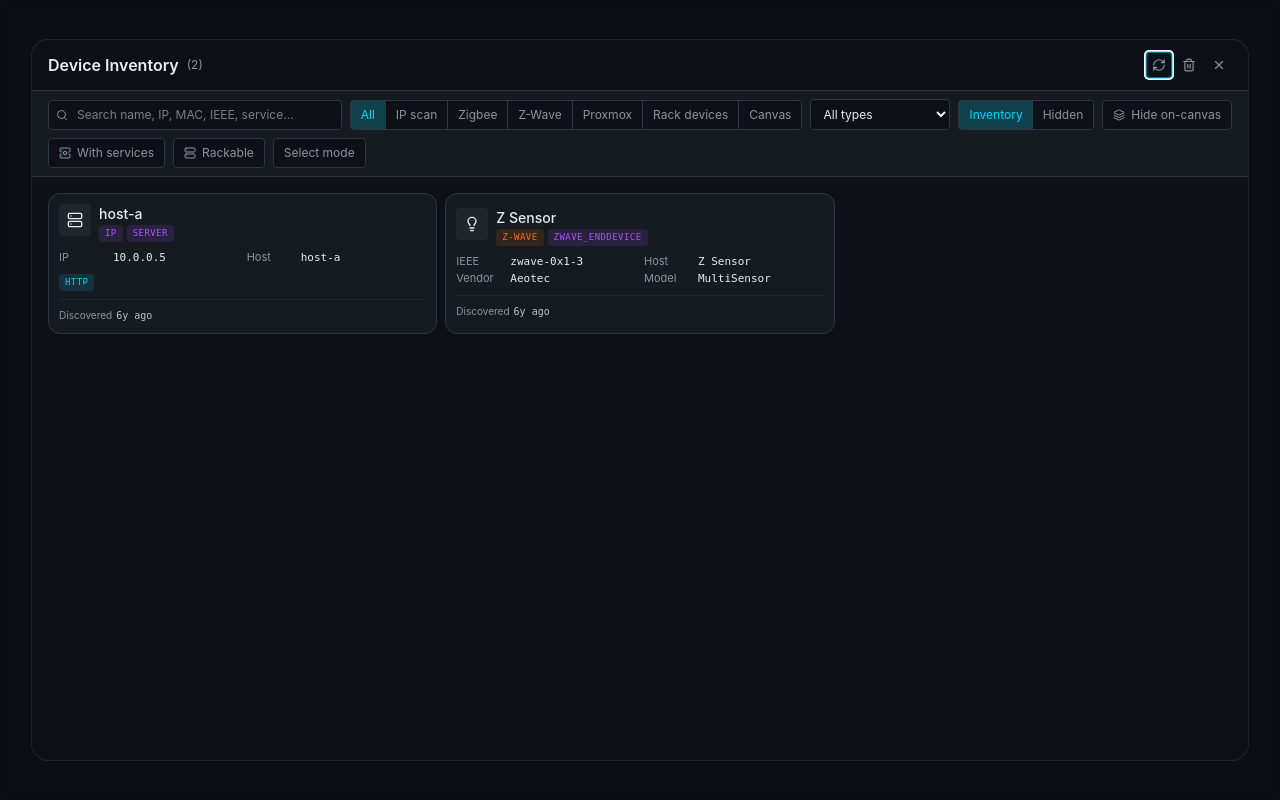
PendingDevicesModal — Device Inventory › filters to Z-Wave devices via the Z-Wave source filter
This screenshot has width=1280, height=800.
Check: the button with test id "pending-card-dev-z" is shown, box [445, 193, 835, 334]
Click the button "Z-Wave": (540, 114) [507, 100, 572, 128]
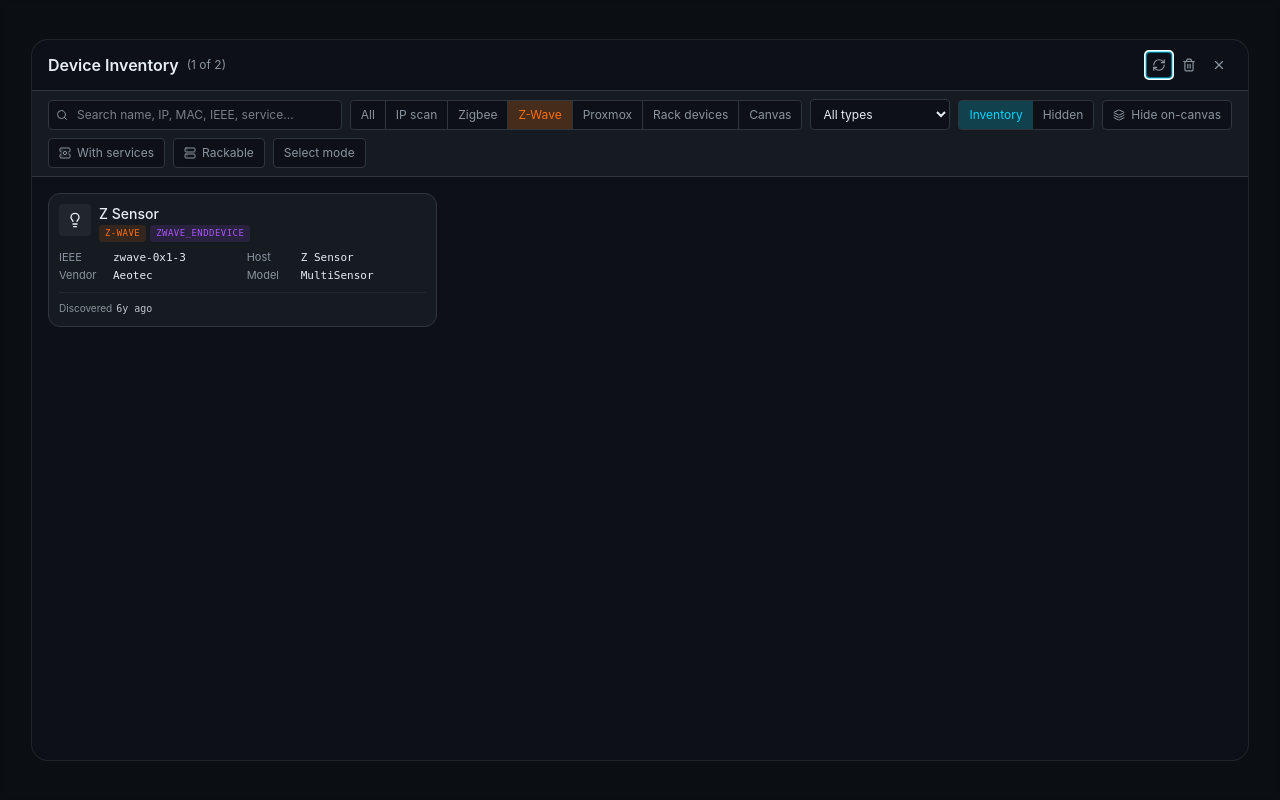
Check: the button with test id "pending-card-dev-z" is shown, box [48, 193, 437, 327]
Check: the button with test id "pending-card-dev-a" is gone
